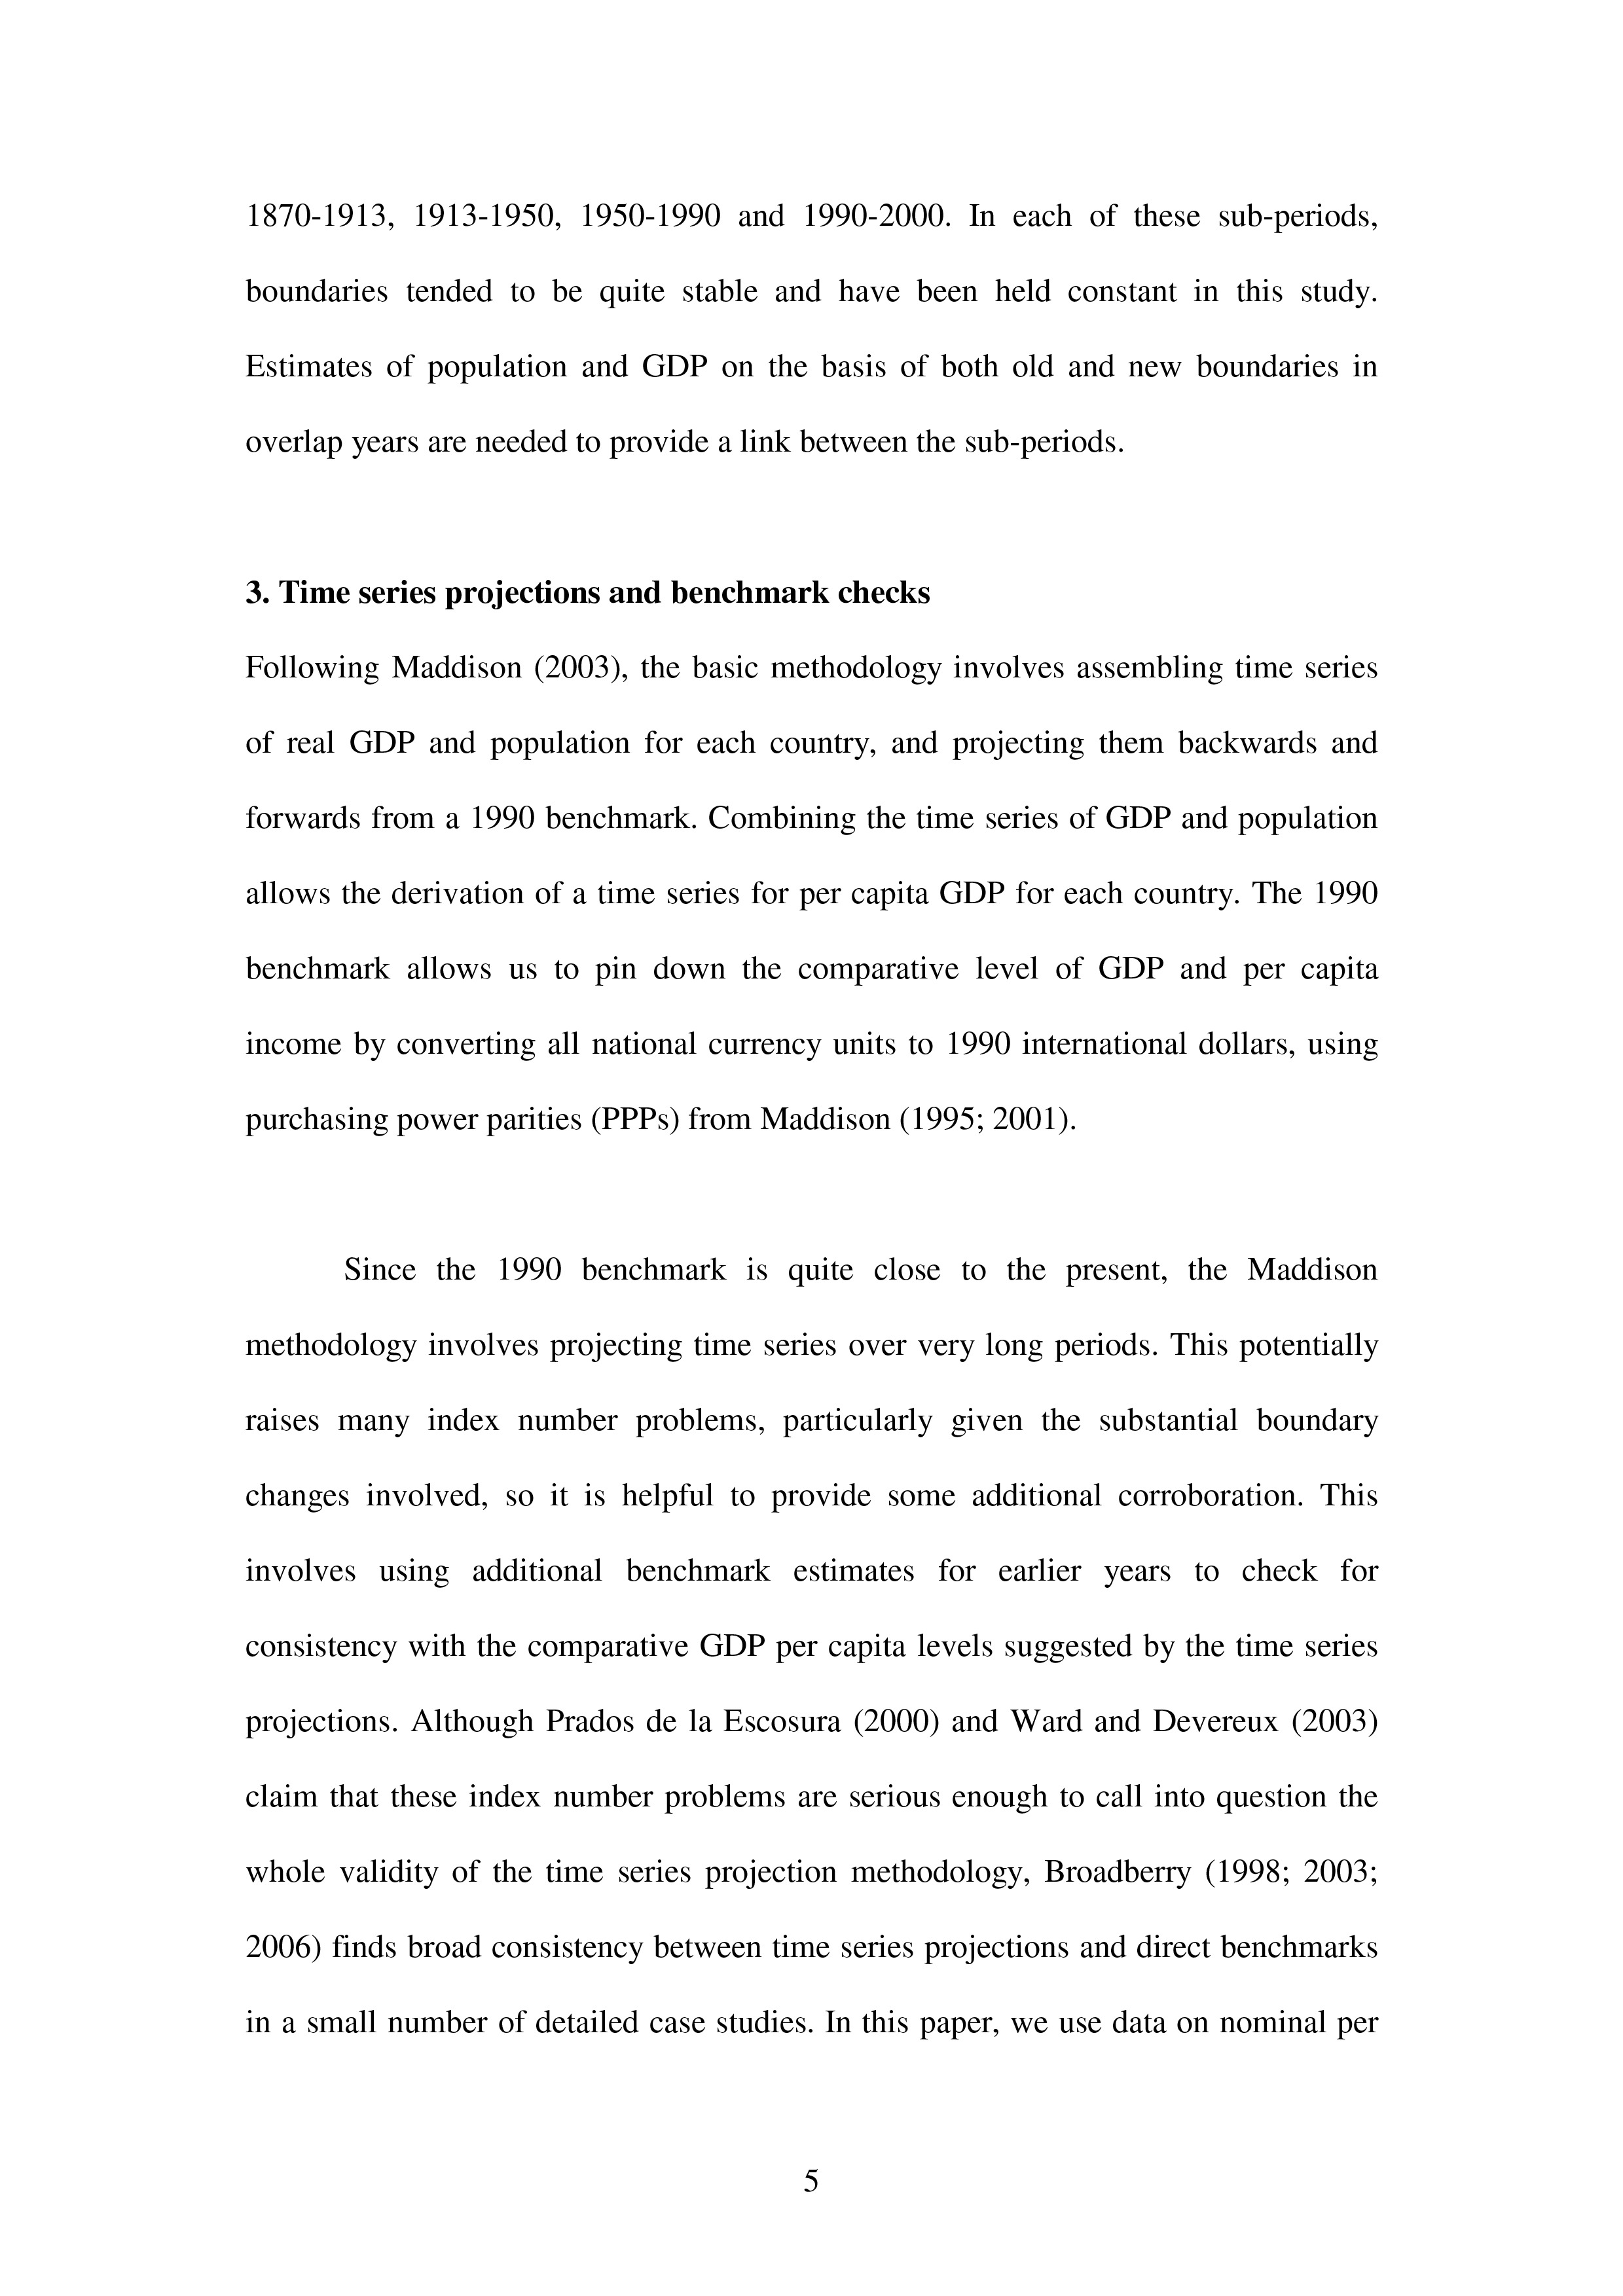section: (234, 563, 956, 627)
text: (218, 1267, 1403, 2078), (234, 651, 1400, 1166), (242, 186, 1375, 458)
